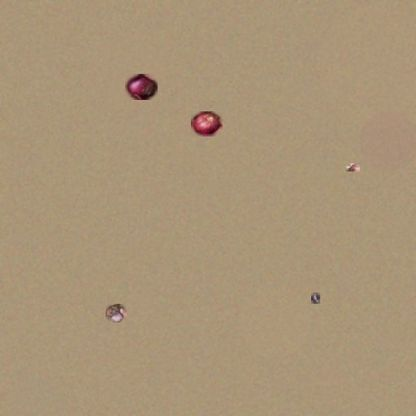healthy: (125, 74, 158, 100), (191, 111, 223, 137)
rotten: (106, 304, 127, 323), (311, 292, 320, 304)
sprouted: (346, 163, 360, 171)
